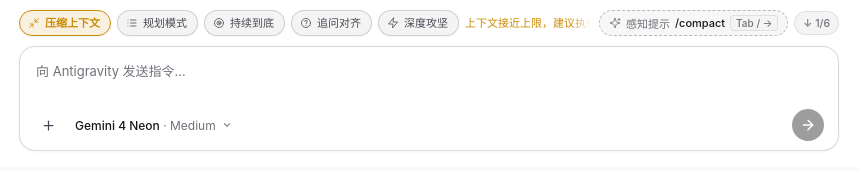
Composer › renders all quick prompts in top bar alongside ghost bar and pulses compact when context is high
The image size is (859, 171).
Expected: the button with test id "quick-prompt-compact" is shown, [19,10,111,36]
Expected: the button with test id "quick-prompt-boost" is shown, [378,10,459,36]
Click the button with test id "quick-prompt-plan": click(158, 23) [117,10,198,36]
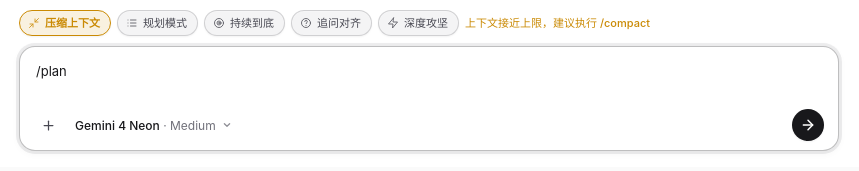
Result: the text box with test id "composer-textarea" holds "/plan " at [34,59,824,105]
